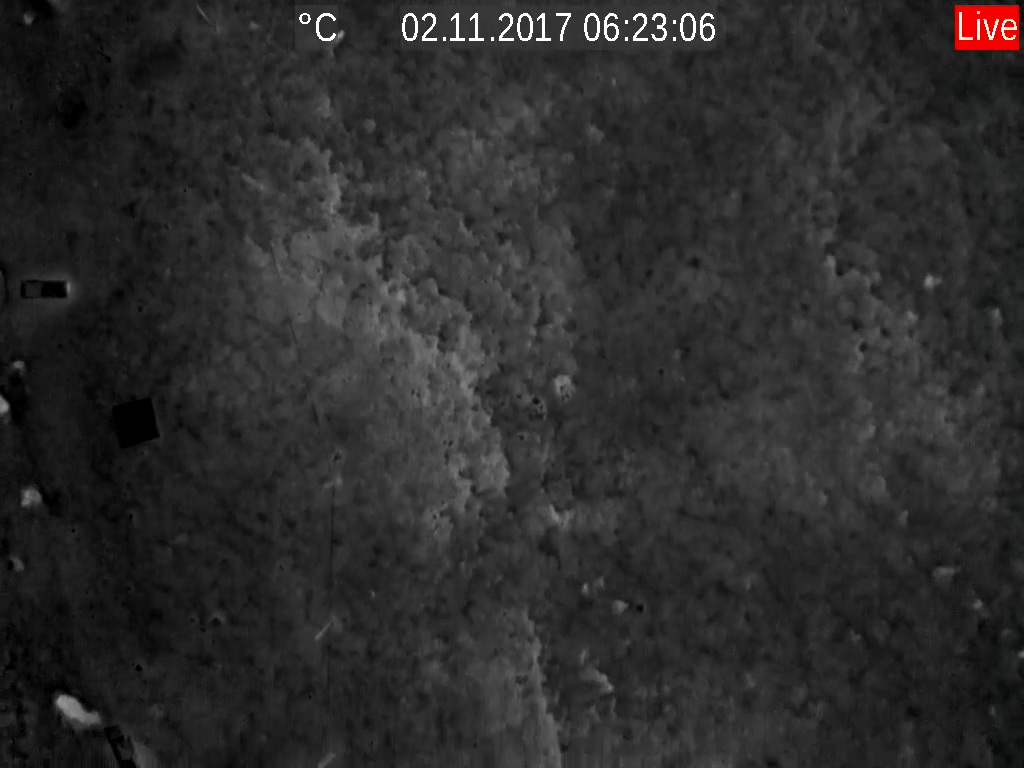warren: (52, 686, 102, 731)
